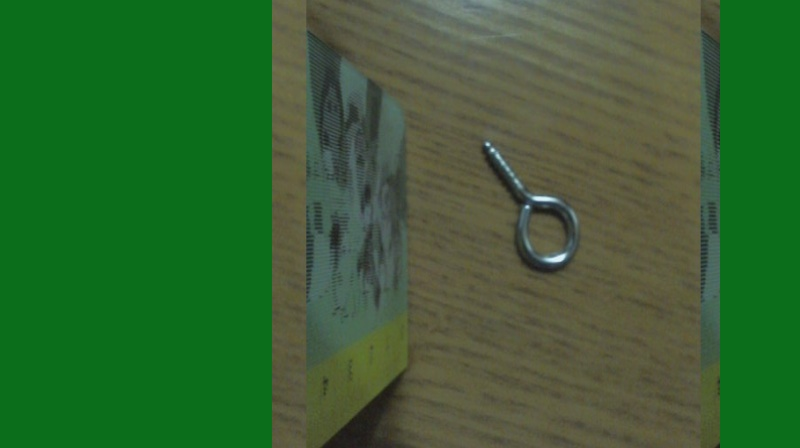O001: (476, 135, 581, 276)
